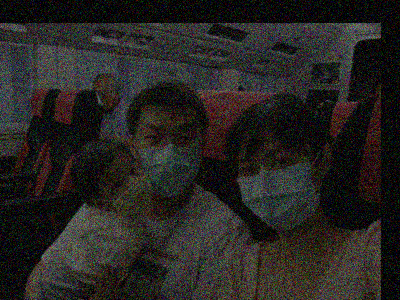with_mask: (233, 139, 322, 233), (132, 119, 202, 197), (100, 157, 153, 217)
without_mask: (98, 89, 115, 113)
